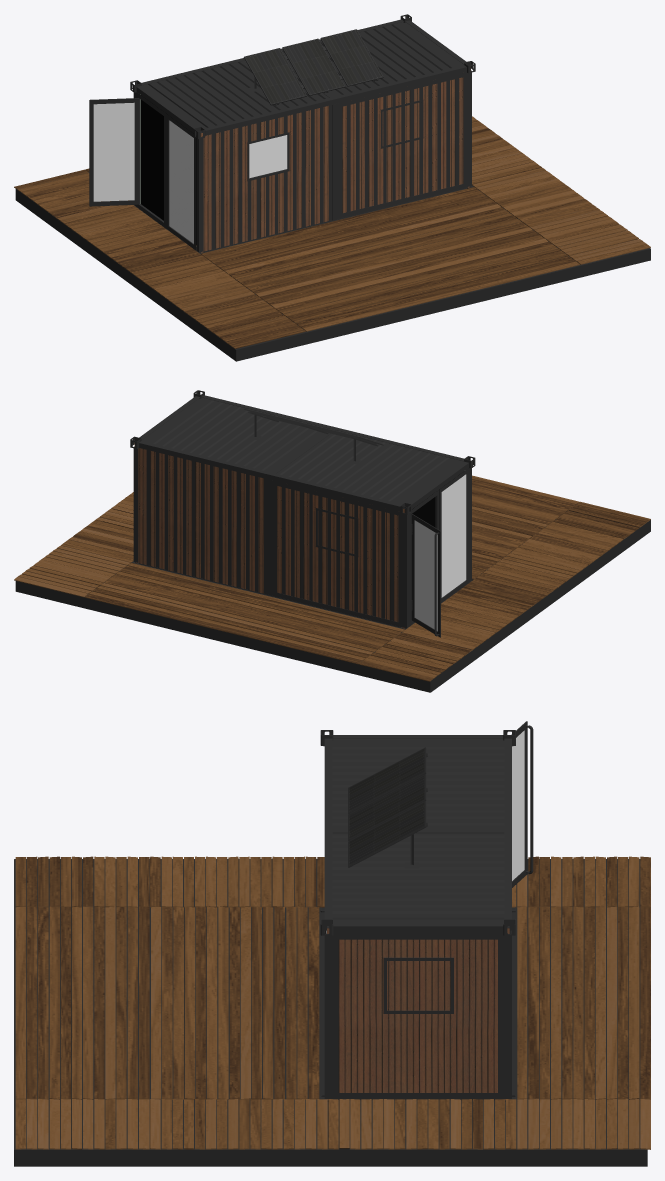
File: solo-haven.glb
3 renders of one model, top to bottom at view 1: azimuth 30°, elevation 25°; view 2: azimuth 150°, elevation 25°; view 3: azimuth 270°, elevation 25°, orthographic. The views are drawn at different scales.
Parts seen in each view (by area): view 1: base, model_1_container_1_exterior_sealing_metal, model_1_container_1_wall_2_window_finish_wood, model_1_container_1_wall_1_none_finish_wood, model_1_container_1_wall_2_window_exterior_metal, model_1_container_1_edges_metal, model_1_solar_panel_1_solar_semic, model_1_container_1_wall_1_none_exterior_metal, model_1_container_1_wall_3_door_left_glass, model_1_container_1_wall_3_door_right_glass, model_1_container_1_interior_shadow, model_1_container_1_wall_1_balcony_frame_metal (+6 smaller); view 2: base, model_1_container_1_exterior_sealing_metal, model_1_container_1_wall_5_none_finish_wood, model_1_container_1_wall_4_none_finish_wood, model_1_container_1_wall_5_none_exterior_metal, model_1_container_1_edges_metal, model_1_container_1_wall_4_none_exterior_metal, model_1_container_1_wall_3_door_right_glass, model_1_container_1_wall_3_door_left_glass, model_1_container_1_wall_4_balcony_frame_metal, model_1_container_1_wall_3_door_left_door_metal, model_1_support_metal (+5 smaller); view 3: base, model_1_container_1_exterior_sealing_metal, model_1_container_1_wall_6_none_finish_wood, model_1_container_1_edges_metal, model_1_solar_panel_1_solar_semic, model_1_container_1_wall_6_balcony_frame_metal, model_1_container_1_wall_3_door_left_glass, model_1_solar_panel_1_support_metal, model_1_container_1_wall_3_door_left_door_metal, model_1_container_1_wall_6_window_frame_metal.
Part boxes in pixels (left/top/right/bottom): base: left=14, top=116, right=650, bottom=361; model_1_container_1_exterior_sealing_metal: left=142, top=22, right=463, bottom=132; model_1_container_1_wall_2_window_finish_wood: left=200, top=106, right=328, bottom=252; model_1_container_1_wall_1_none_finish_wood: left=342, top=77, right=470, bottom=213; model_1_container_1_wall_2_window_exterior_metal: left=200, top=105, right=332, bottom=249; model_1_container_1_edges_metal: left=130, top=14, right=475, bottom=253; model_1_solar_panel_1_solar_semic: left=245, top=30, right=382, bottom=103; model_1_container_1_wall_1_none_exterior_metal: left=347, top=78, right=458, bottom=212; model_1_container_1_wall_3_door_left_glass: left=93, top=102, right=134, bottom=201; model_1_container_1_wall_3_door_right_glass: left=169, top=120, right=193, bottom=243; model_1_container_1_interior_shadow: left=141, top=95, right=196, bottom=244; model_1_container_1_wall_1_balcony_frame_metal: left=338, top=72, right=467, bottom=218; base: left=14, top=475, right=650, bottom=692; model_1_container_1_exterior_sealing_metal: left=141, top=398, right=463, bottom=508; model_1_container_1_wall_5_none_finish_wood: left=135, top=448, right=263, bottom=593; model_1_container_1_wall_4_none_finish_wood: left=277, top=486, right=405, bottom=628; model_1_container_1_wall_5_none_exterior_metal: left=146, top=450, right=267, bottom=594; model_1_container_1_edges_metal: left=130, top=390, right=475, bottom=629; model_1_container_1_wall_4_none_exterior_metal: left=282, top=487, right=404, bottom=620; model_1_container_1_wall_3_door_right_glass: left=441, top=474, right=466, bottom=597; model_1_container_1_wall_3_door_left_glass: left=414, top=520, right=437, bottom=631; model_1_container_1_wall_4_balcony_frame_metal: left=273, top=480, right=401, bottom=626; model_1_container_1_wall_3_door_left_door_metal: left=411, top=514, right=440, bottom=637; model_1_support_metal: left=267, top=428, right=335, bottom=595; base: left=14, top=856, right=650, bottom=1166; model_1_container_1_exterior_sealing_metal: left=327, top=738, right=509, bottom=927; model_1_container_1_wall_6_none_finish_wood: left=327, top=928, right=509, bottom=1099; model_1_container_1_edges_metal: left=320, top=730, right=515, bottom=1101; model_1_solar_panel_1_solar_semic: left=349, top=749, right=424, bottom=865; model_1_container_1_wall_6_balcony_frame_metal: left=332, top=933, right=504, bottom=1099; model_1_container_1_wall_3_door_left_glass: left=512, top=730, right=524, bottom=880; model_1_solar_panel_1_support_metal: left=348, top=747, right=427, bottom=868; model_1_container_1_wall_3_door_left_door_metal: left=511, top=721, right=533, bottom=887; model_1_container_1_wall_6_window_frame_metal: left=383, top=957, right=453, bottom=1013.
Size of the model in its own units: 9.21 by 3.46 by 8.51.
9 materials, 4 textured.
